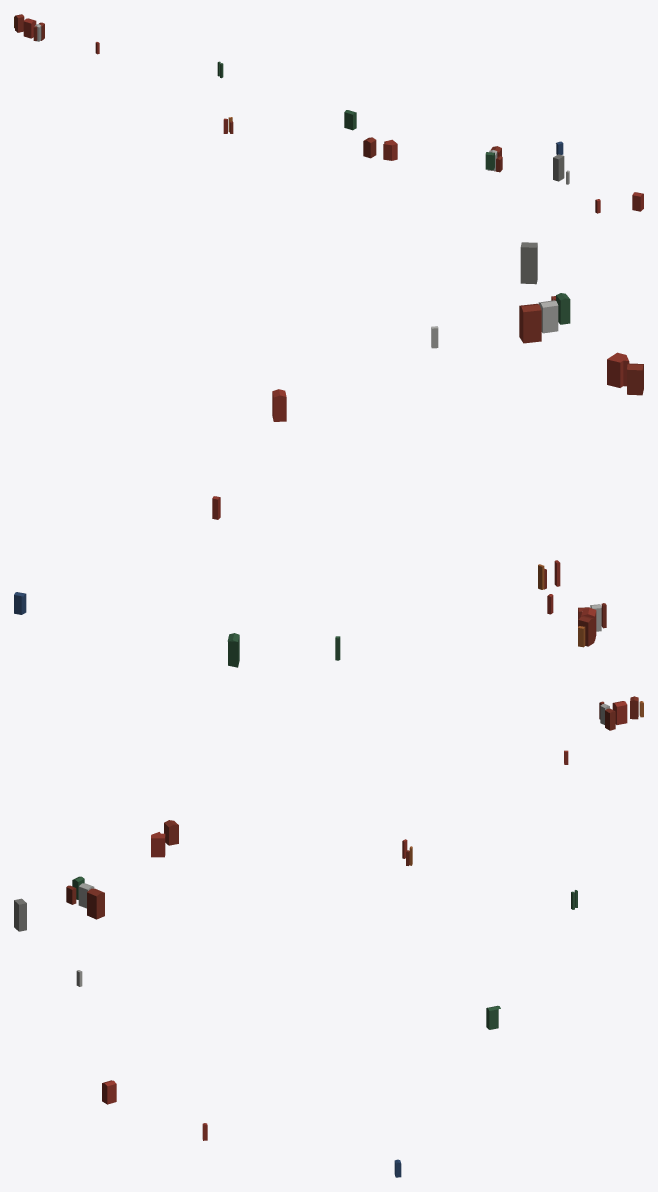
File: near-16-54737-29743.9276261f.glb
3 views of the same model, one above another, from view 1: azimuth 30°, elevation 25°; view 2: azimuth 150°, elevation 25°; view 3: azimuth 270°, elevation 25° (orthographic). The views are drawn at different scales.
Size of the model in its own units: 552 by 207 by 551.
